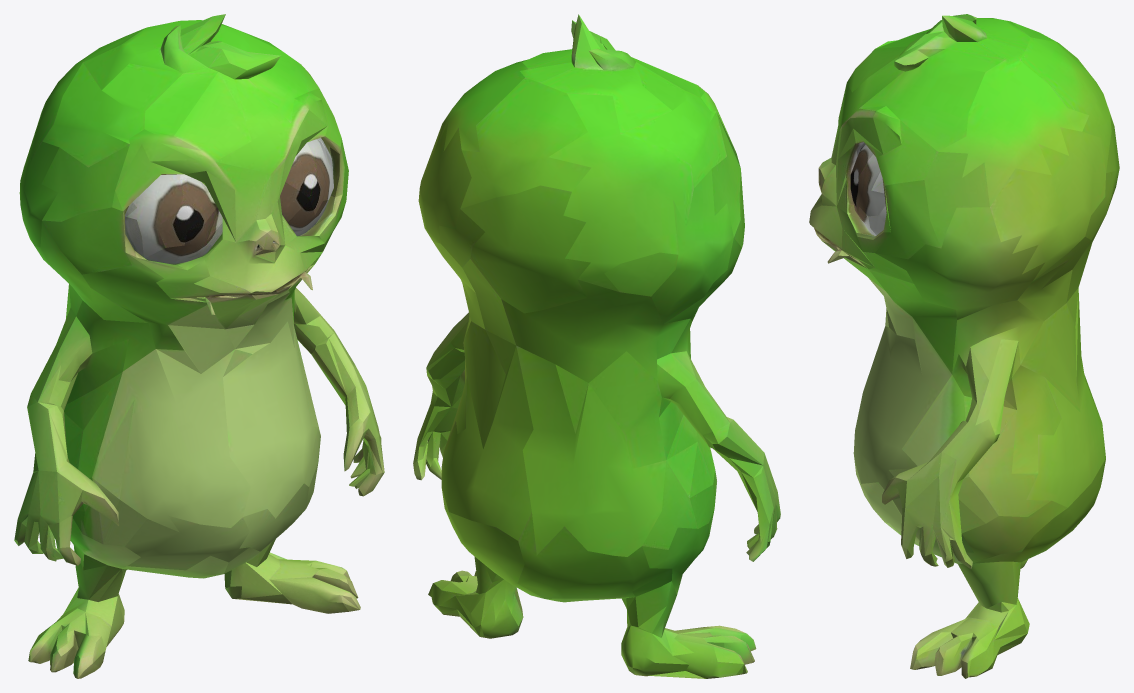
File: enemy_enm-01-004.glb
The picture shows the model from 3 angles, left to right: view 1: azimuth 30°, elevation 25°; view 2: azimuth 150°, elevation 25°; view 3: azimuth 270°, elevation 25°; orthographic projection. The views are drawn at different scales.
Size of the model in its own units: 1.15 by 1.9 by 0.8895.
1 material, 1 textured.
